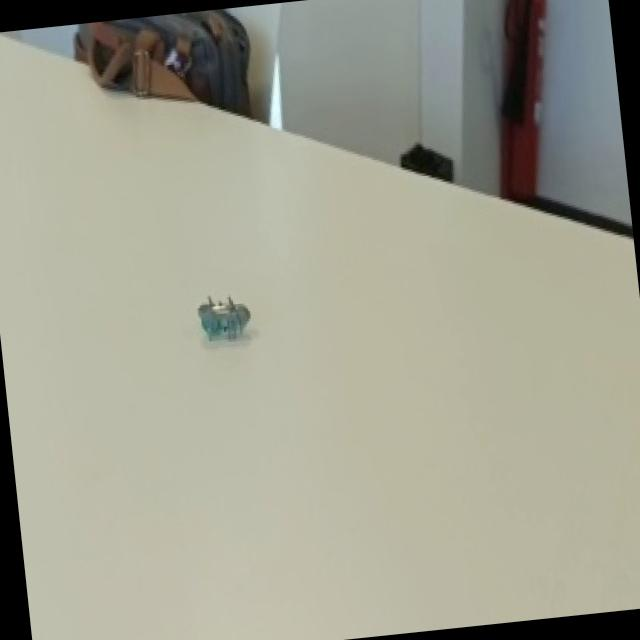5_NanoBug_GrisClaro: (178, 269, 274, 362)
